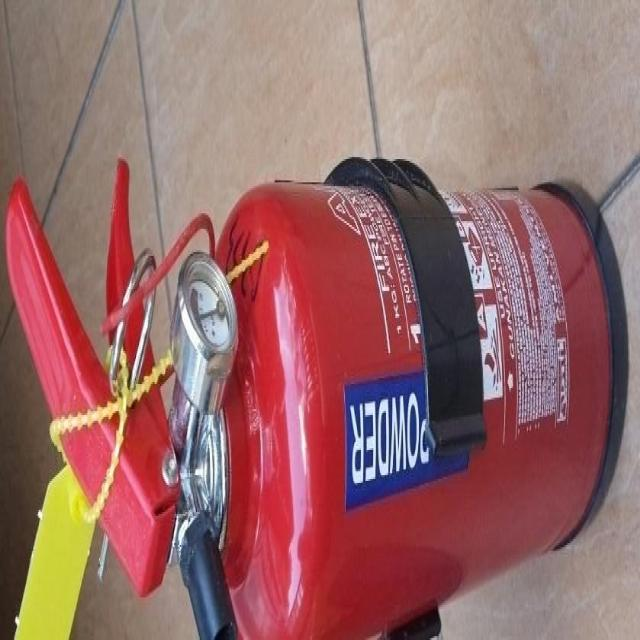fire_extinguisher: (2, 146, 632, 638)
